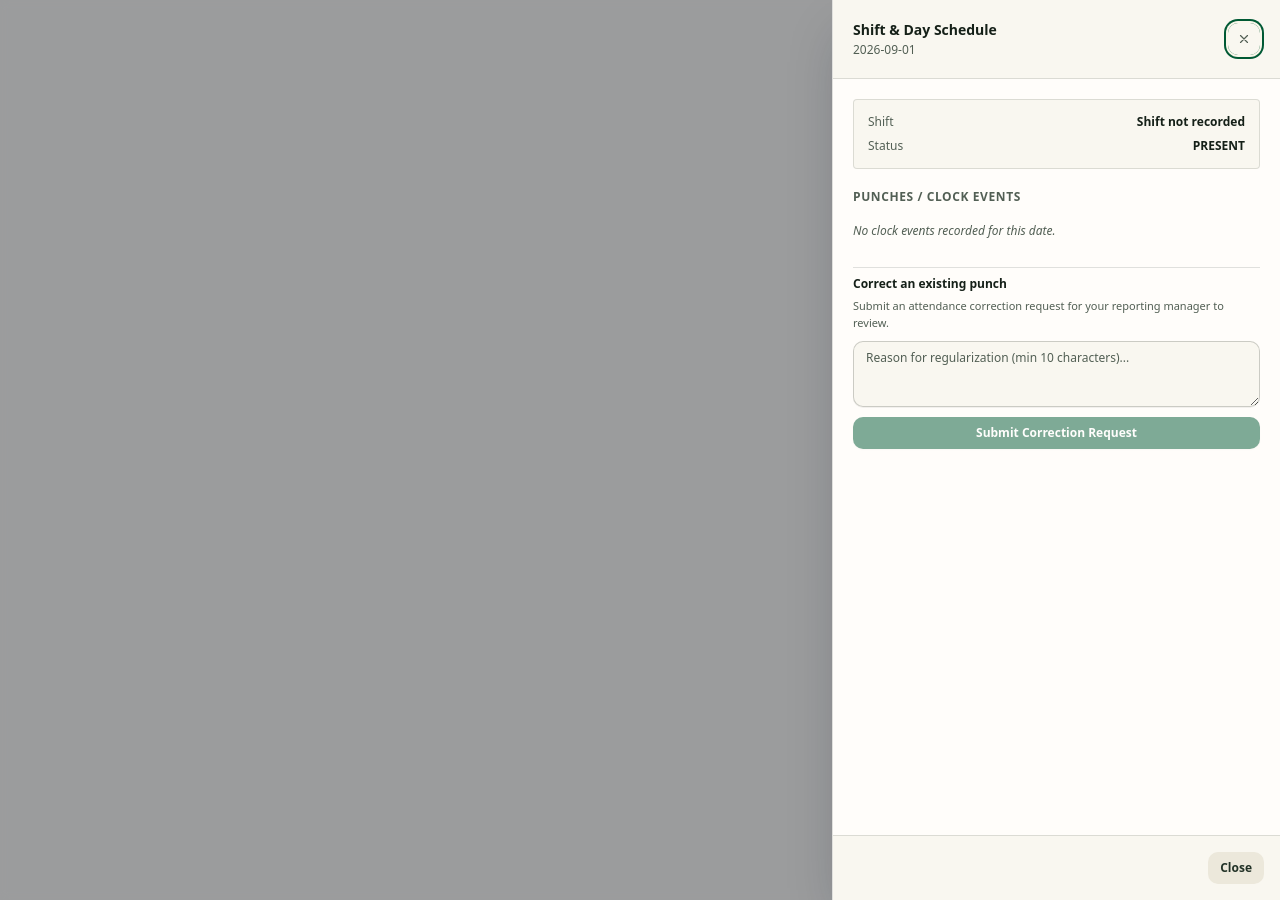
it: CalendarDetailDrawer › shows the server error and stays open when the request fails
Step 1. Type "Machine rebooted and the punch was lost" into the text box → (1056, 374), box [853,341,1260,407]
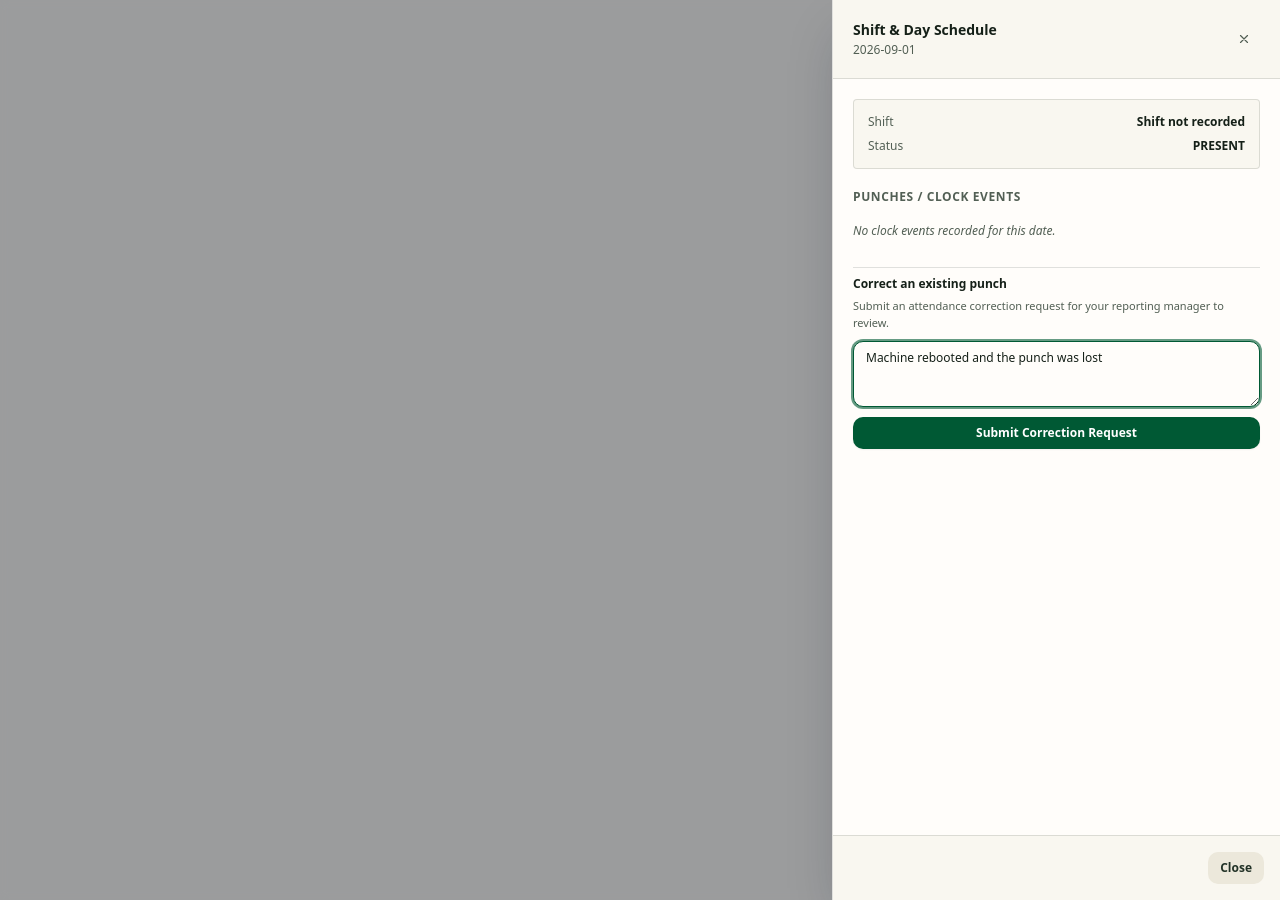
Step 2. Click the button "Submit Correction Request" → (1056, 433), box [853,417,1260,449]
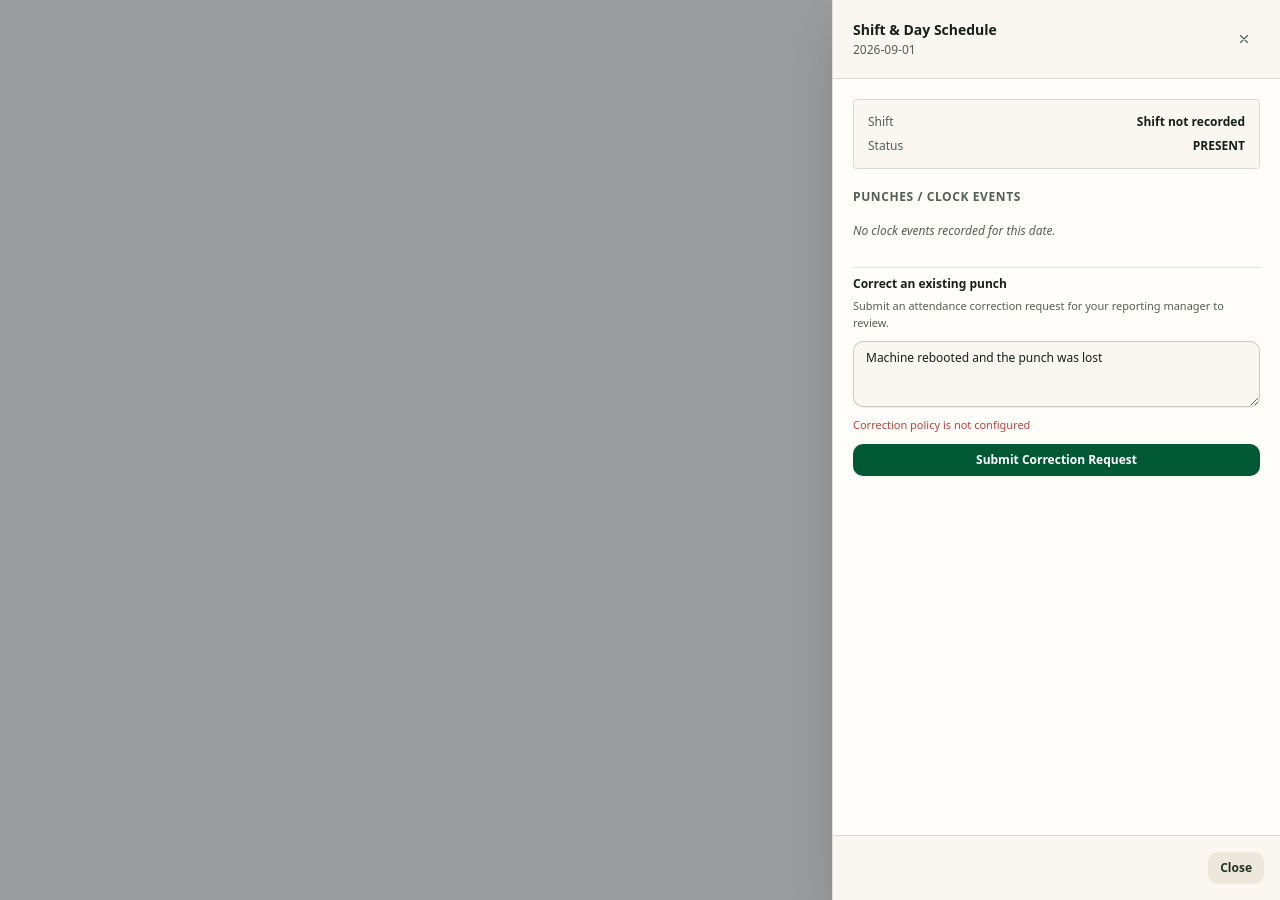
Result: the message reads "Correction policy is not configured" at [853,417,1030,432]
